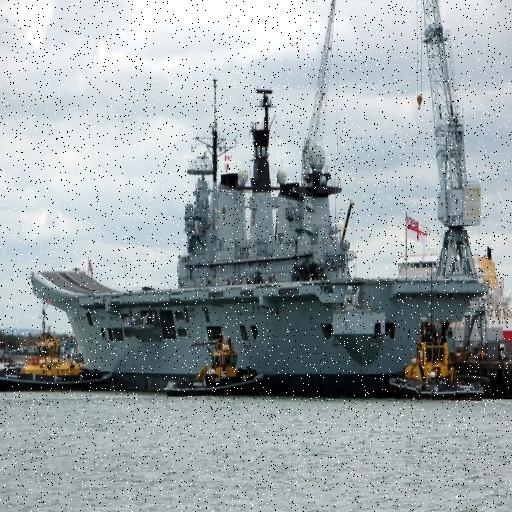Portanaves: (27, 63, 497, 391)
